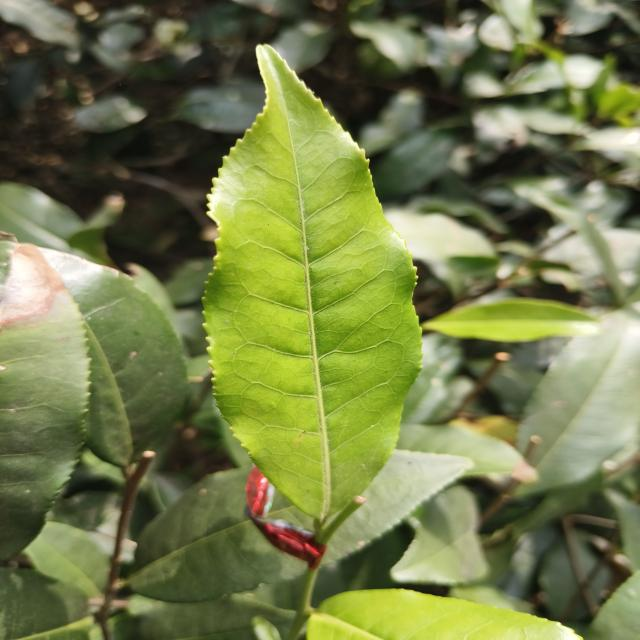Leaf: (204, 46, 421, 523), (38, 248, 188, 467), (0, 234, 90, 560), (126, 469, 307, 602), (516, 309, 640, 496), (322, 450, 471, 567), (307, 589, 579, 640), (391, 485, 488, 586), (396, 424, 538, 484), (385, 208, 495, 284), (421, 298, 596, 342), (25, 521, 109, 598), (0, 181, 84, 251), (373, 128, 455, 199), (174, 81, 265, 133), (0, 0, 80, 49), (350, 20, 426, 70), (271, 21, 336, 73), (268, 491, 312, 531)
